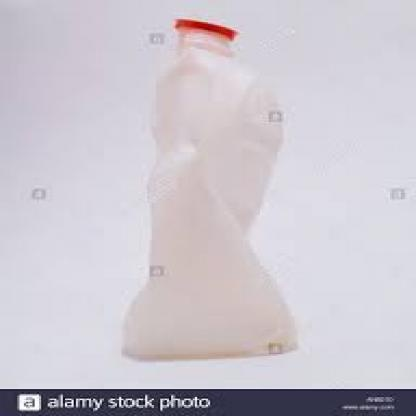trash: (123, 19, 295, 358)
